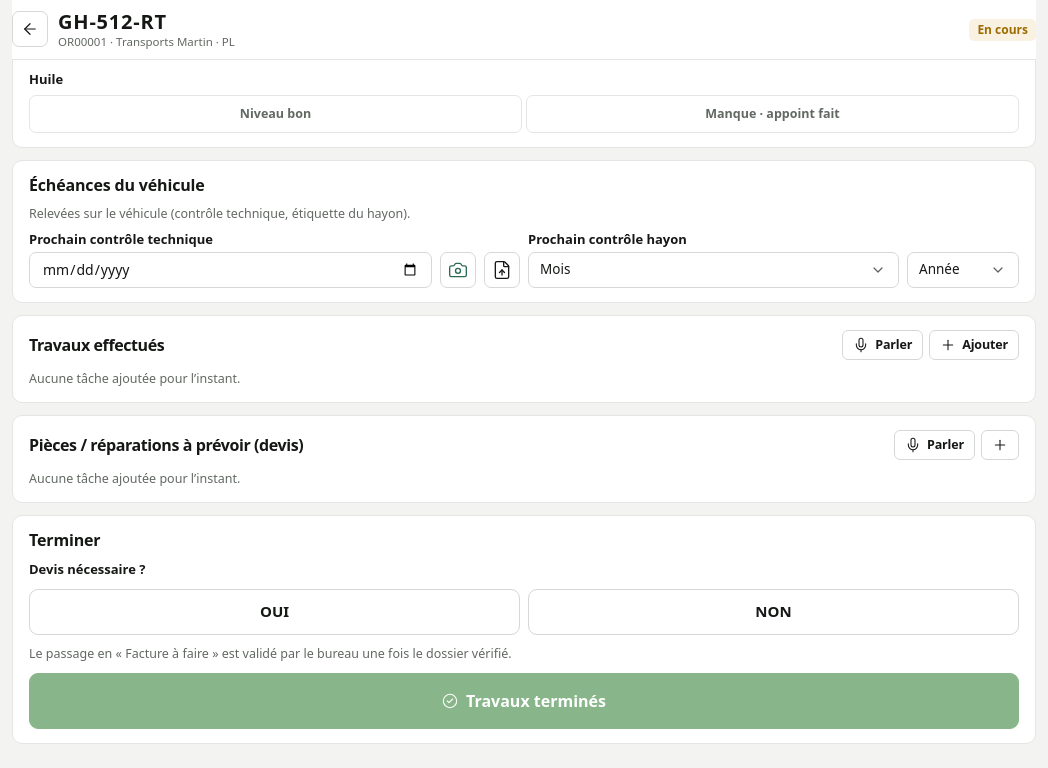
Test: fiche OR technicien › travaux terminés : demande si un devis est nécessaire
(page scrolled)
Check: the button "Travaux terminés" is disabled, box [29,673,1019,729]
Step 1. Click the button "OUI" → (274, 612), box [29,589,520,635]
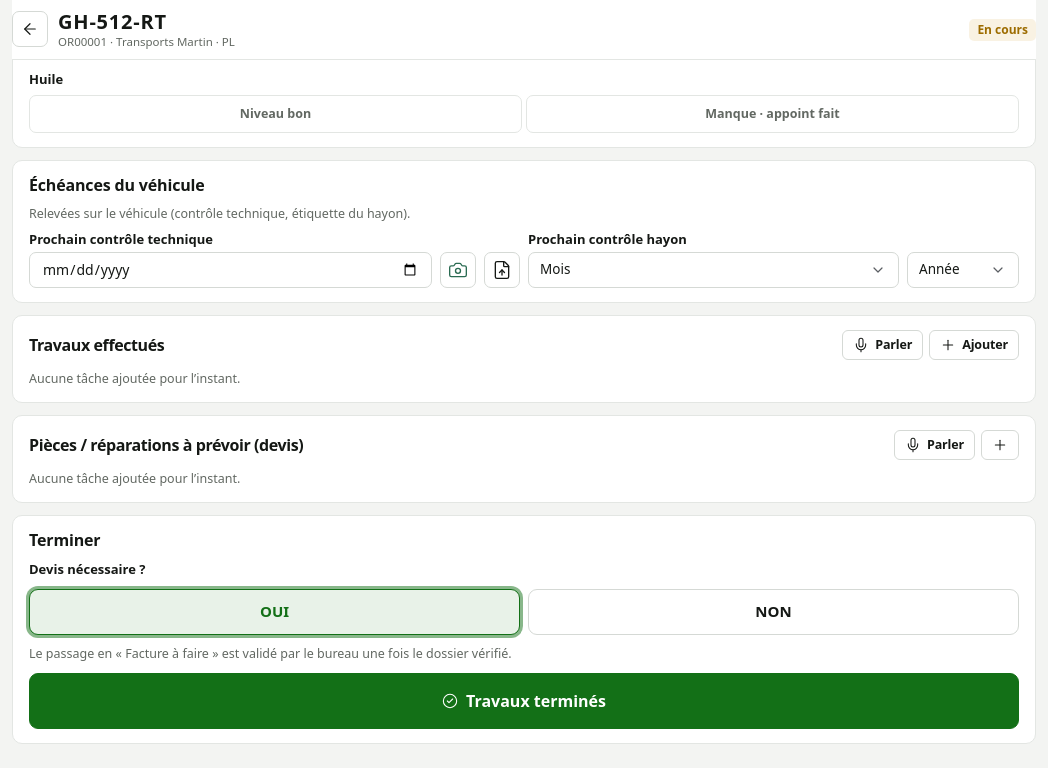
Step 2. Click the button "Travaux terminés" → (524, 701), box [29,673,1019,729]
(page scrolled)
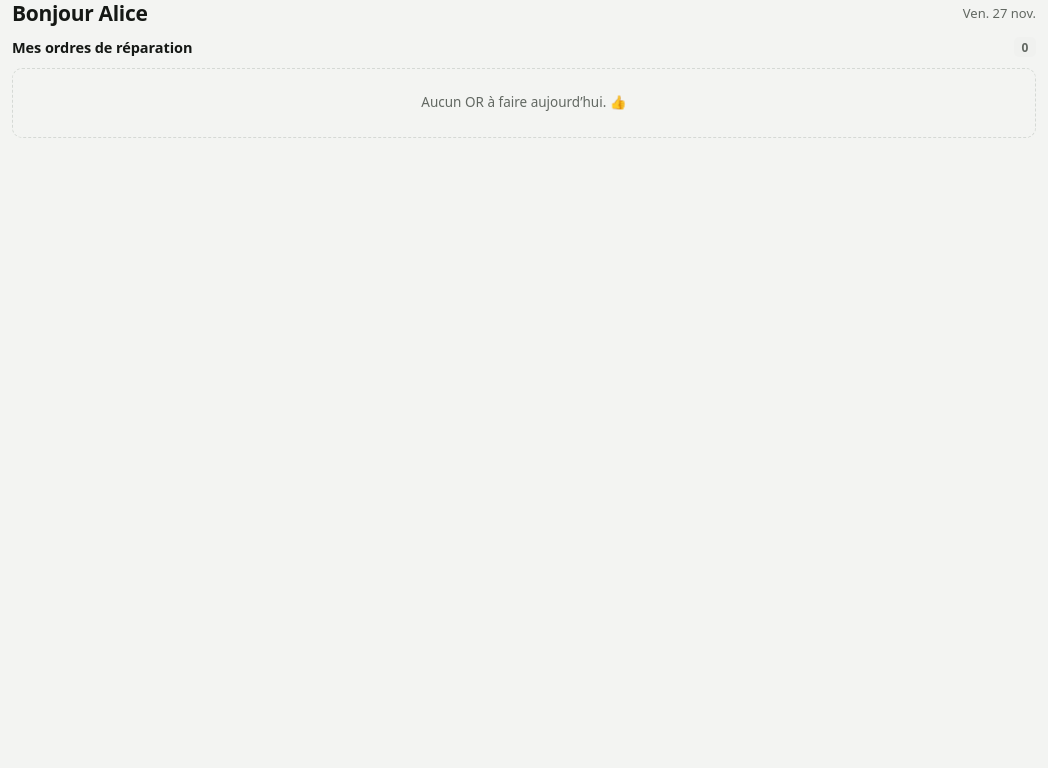
Check: the heading "Mes ordres de réparation" is shown, box [12,38,192,57]
